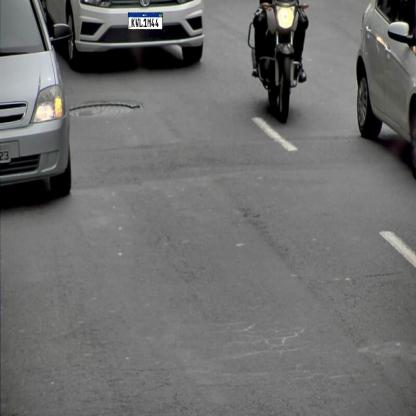PlacaM: (128, 12, 163, 30)
